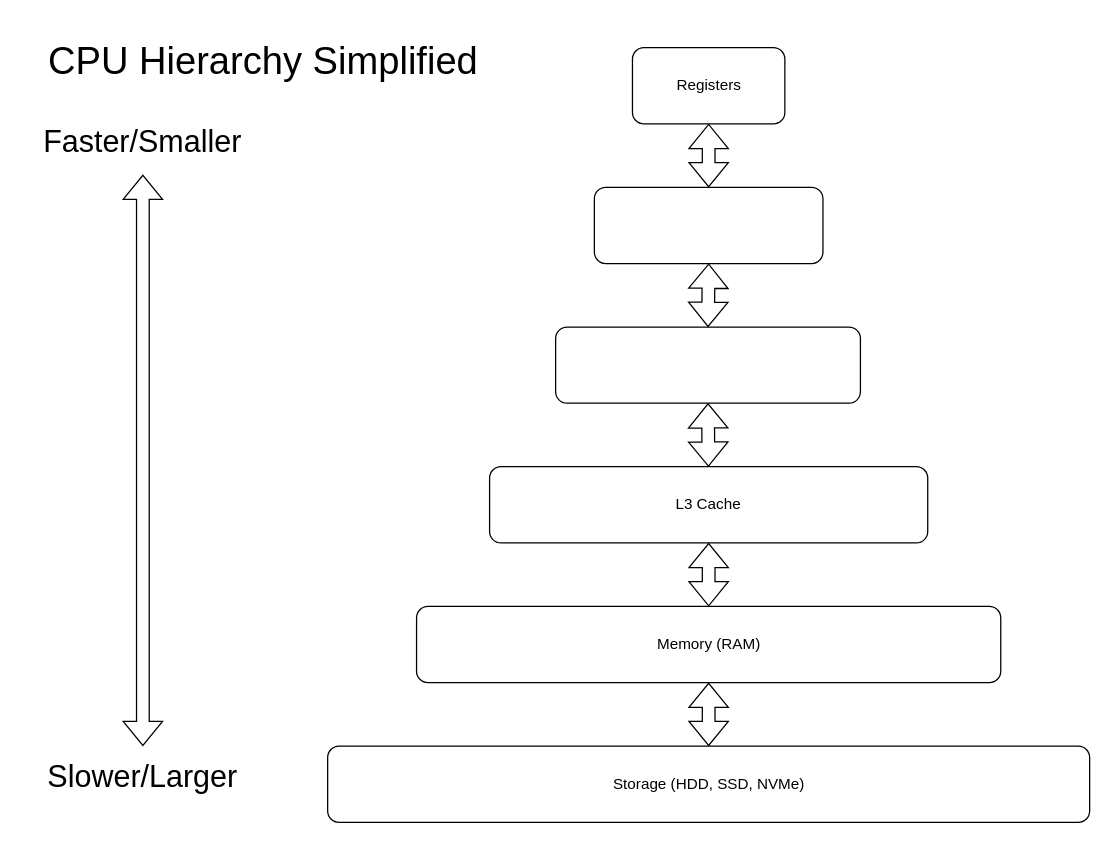
Image size: 1111x845. Some labels were removed from this diagram. The box of each missing label's shape, as (x1, y1, x2, y2) in pixels:
L1 Cache: (593, 186, 823, 264)
L2 Cache: (554, 326, 860, 403)
